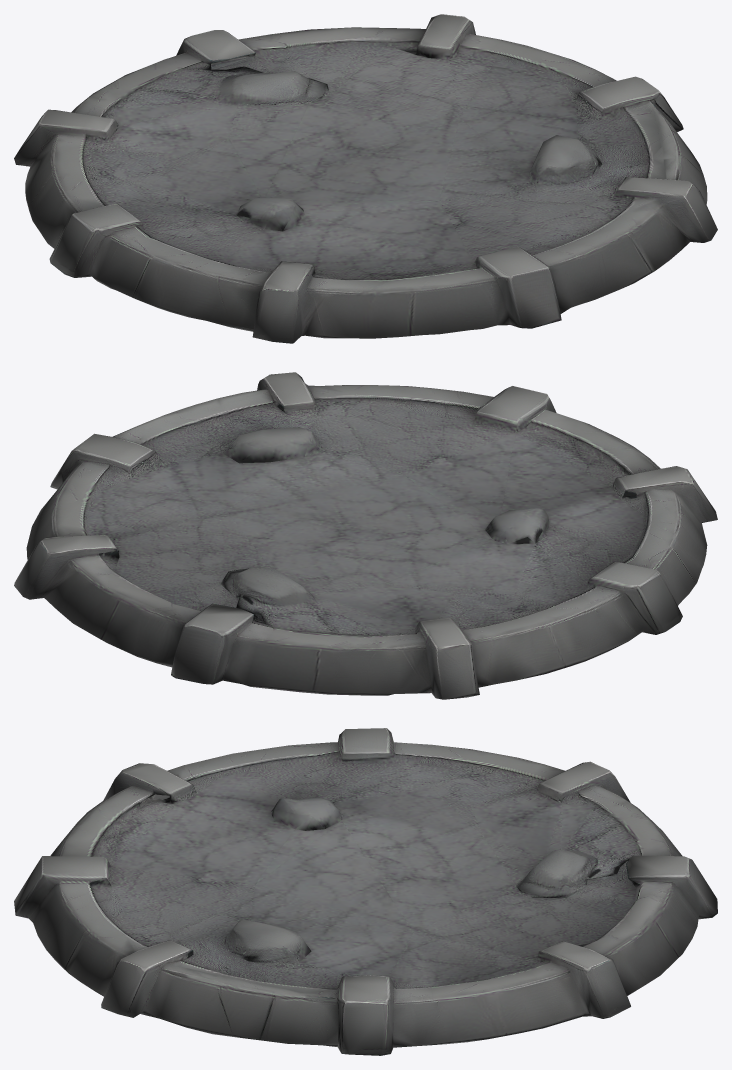
The picture shows the model from 3 angles, top to bottom: view 1: azimuth 30°, elevation 25°; view 2: azimuth 150°, elevation 25°; view 3: azimuth 270°, elevation 25°; orthographic projection.
Size of the model in its own units: 1.92 by 0.1482 by 1.92.
Materials: 1 (1 with a texture image).
